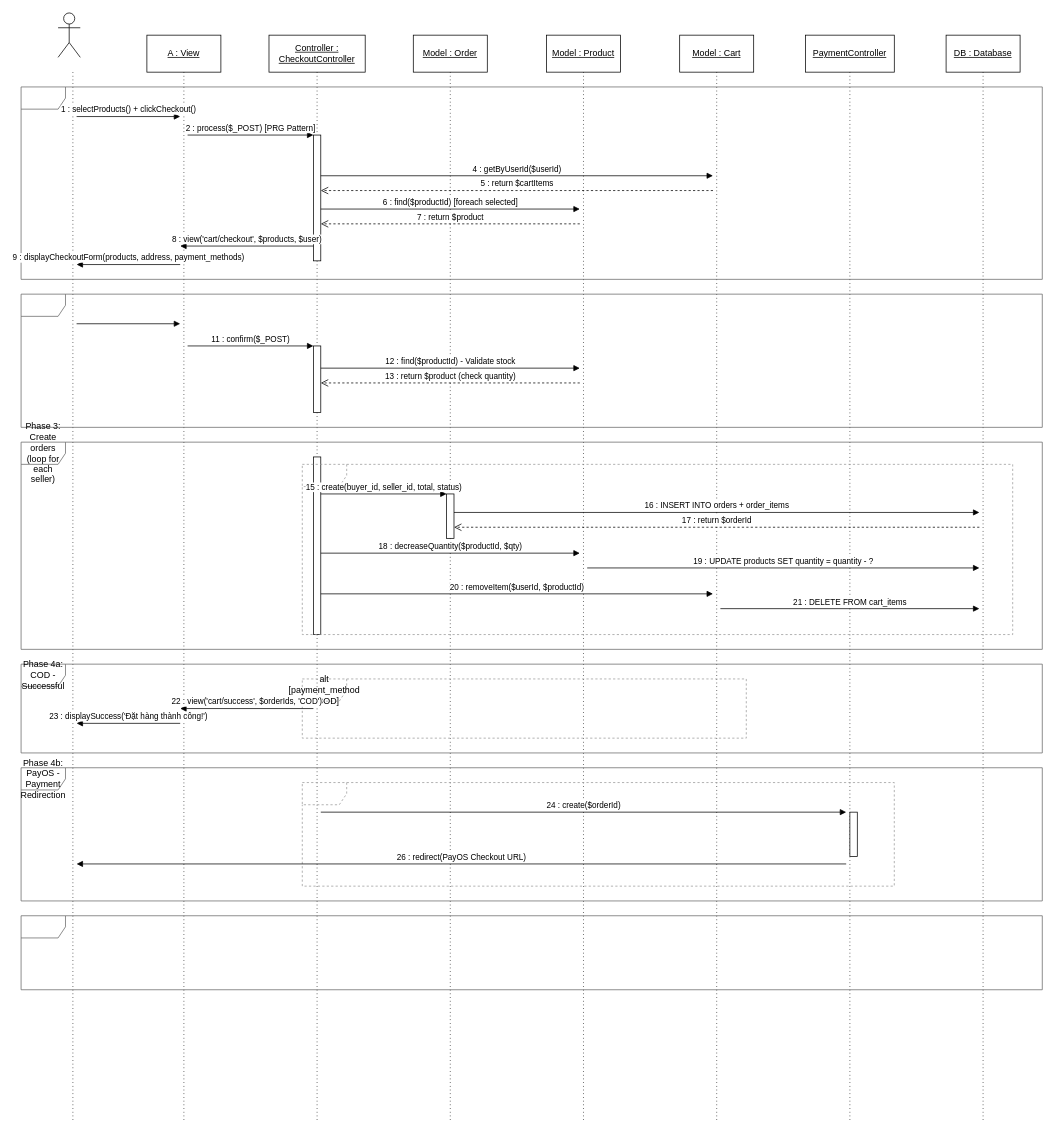
This 1055x1137 diagram has some shape labels left out. The centre of each missing label's shape, as x and y in pixels:
"alt [payment_method = PayOS]" belongs at (598,834).
"loop [foreach seller]" belongs at (657,549).
"Phase 1: Display the payment page" belongs at (531,182).
"Phase 2: Order Confirmation" belongs at (531,360).
"Phase 5: Notify the seller (async)" belongs at (531,952).
"User" belongs at (68,34).
